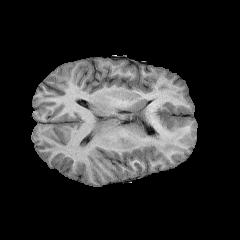glioma: (117, 104, 196, 148)
